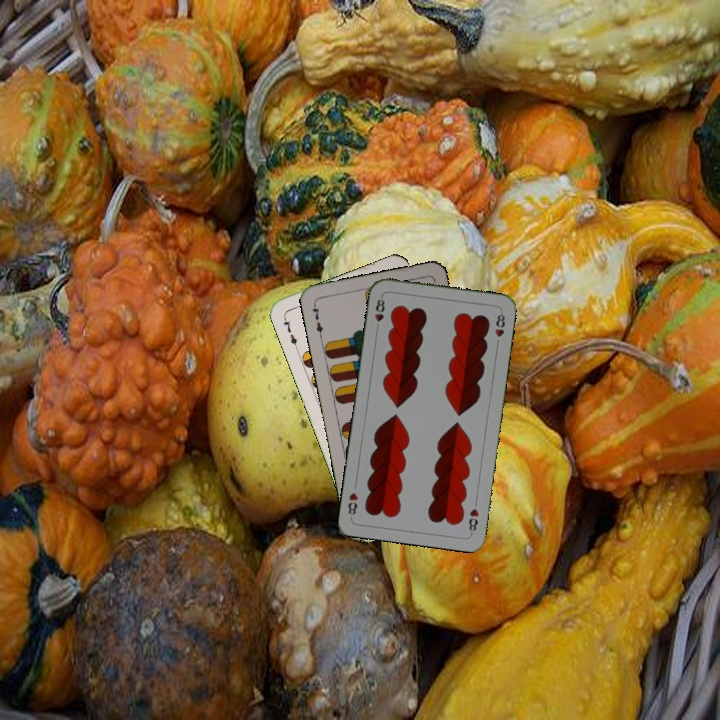E7: (279, 312, 300, 351), (308, 300, 325, 340)
H8: (371, 292, 387, 333), (465, 504, 481, 536)
